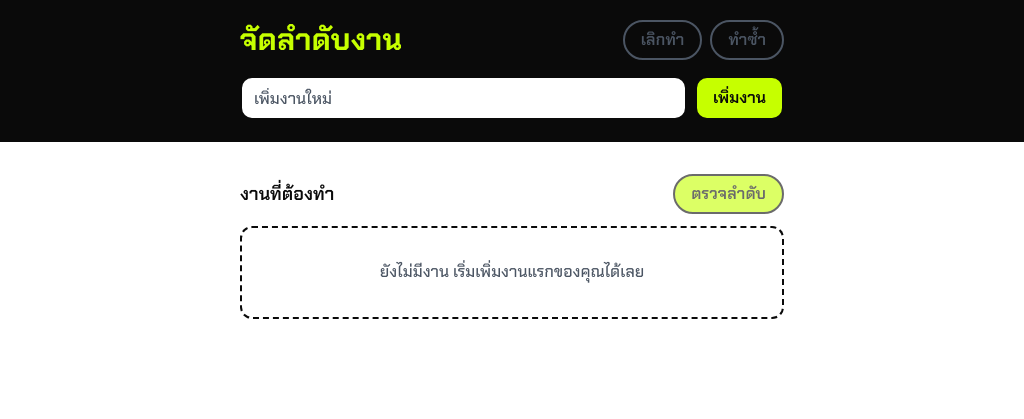
Scenario: completing, undoing and deleting › P2-16 ✓ moves the task into "เสร็จวันนี้"
Type "A" into the field labelled "เพิ่มงานใหม่" at {"x": 464, "y": 98}, box [240,76,687,120]
Then press Enter
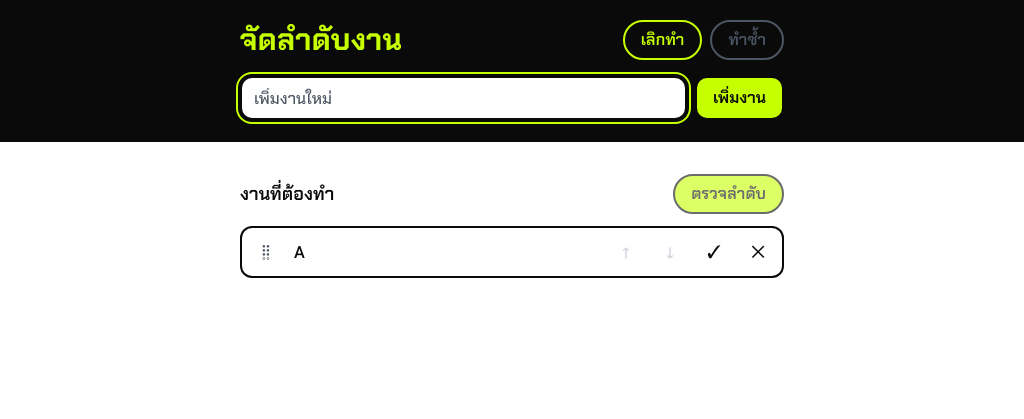
Type "B" into the field labelled "เพิ่มงานใหม่" at {"x": 464, "y": 98}, box [240,76,687,120]
Then press Enter
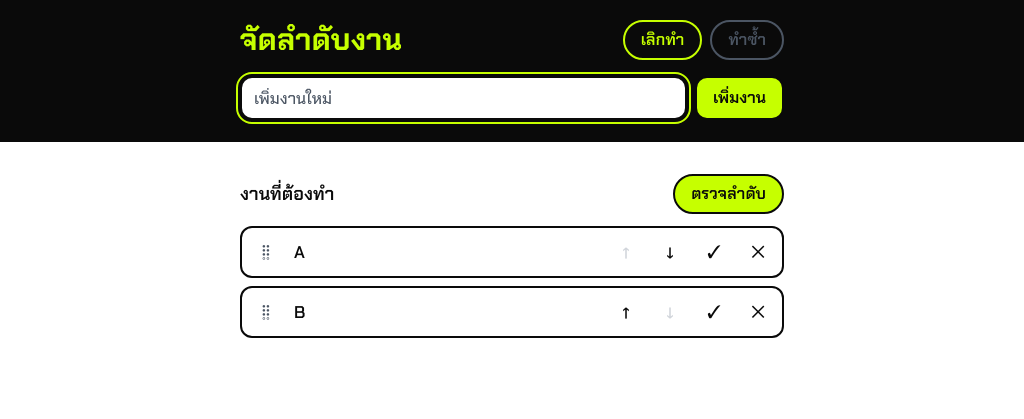
Click the 1st button "✓" at {"x": 714, "y": 252}, box [694,232,734,272]
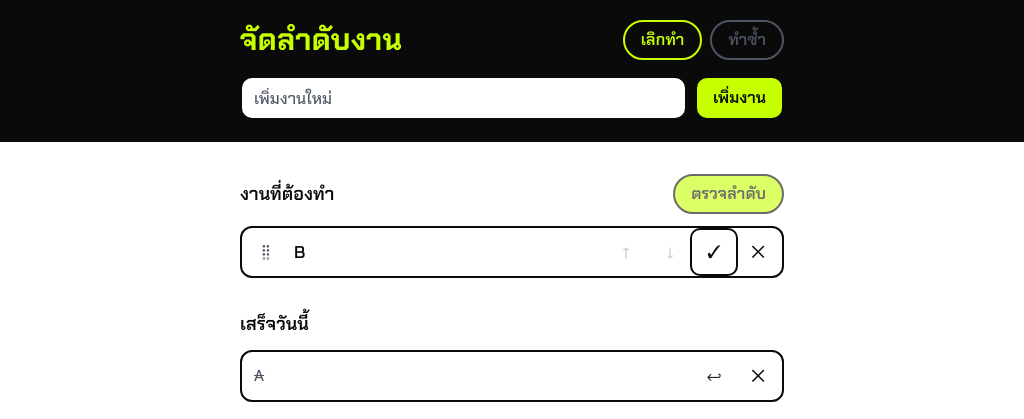
Now the heading "เสร็จวันนี้" is shown, box [240,312,309,336]
